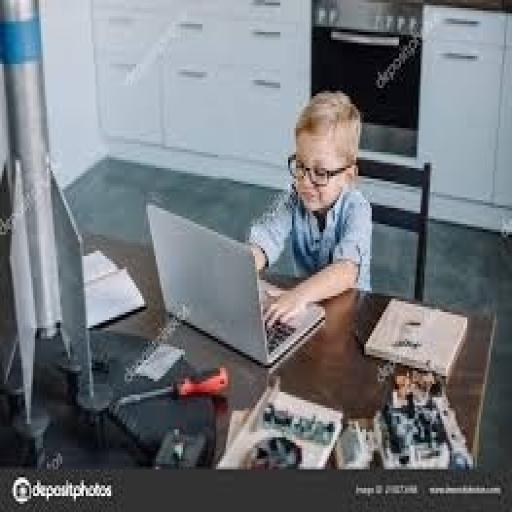using_laptop: (142, 197, 327, 368)
